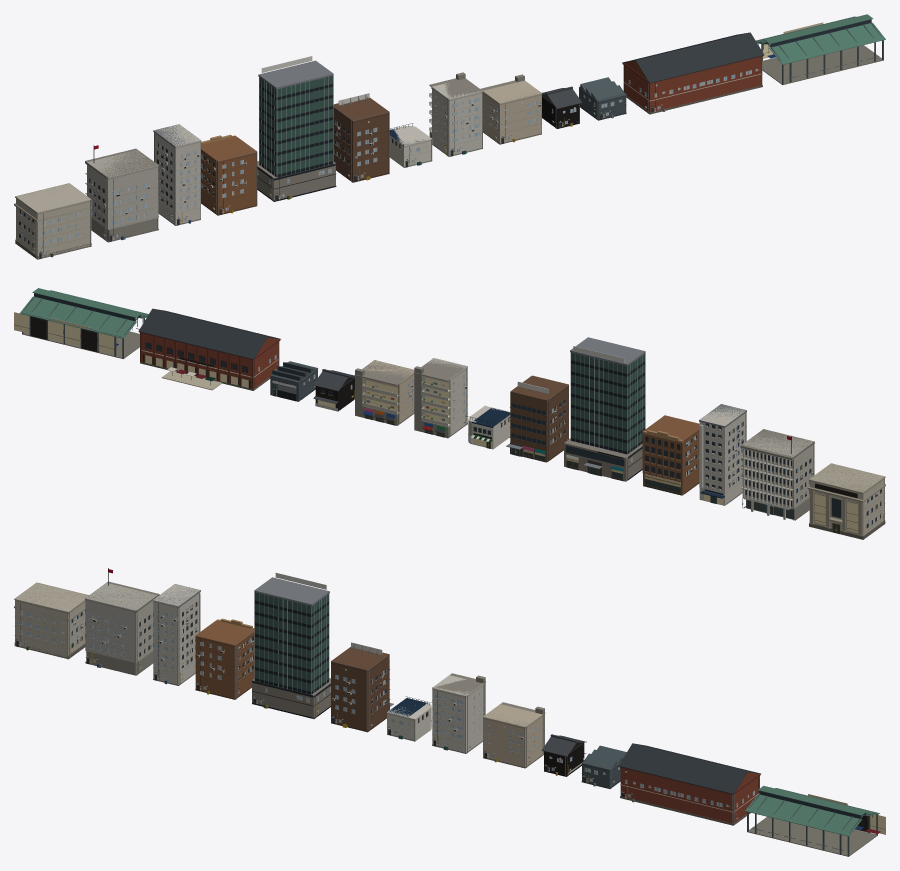
File: urafront.glb
3 views of the same model, one above another, from view 1: azimuth 30°, elevation 25°; view 2: azimuth 150°, elevation 25°; view 3: azimuth 330°, elevation 25° (orthographic).
Parts seen in each view (by area): view 1: urafront_glass_body, urafront_renga_body, urafront_uwaya_body, urafront_screen_body, urafront_bank_body, urafront_tile70_body, urafront_bizhotel_body, urafront_scratch_body, urafront_mansion_body, urafront_mansion_b_body, urafront_workshop_body, urafront_cafe_body (+1 smaller); view 2: urafront_glass_body, urafront_renga_body, urafront_uwaya_body, urafront_screen_body, urafront_bank_body, urafront_tile70_body, urafront_bizhotel_body, urafront_scratch_body, urafront_mansion_body, urafront_mansion_b_body, urafront_cafe_body, urafront_workshop_body (+1 smaller); view 3: urafront_glass_body, urafront_renga_body, urafront_uwaya_body, urafront_screen_body, urafront_bank_body, urafront_tile70_body, urafront_scratch_body, urafront_bizhotel_body, urafront_mansion_body, urafront_mansion_b_body, urafront_cafe_body, urafront_kura_body (+1 smaller).
Boxes of the visible parts, box(x1,y1,x2,y2) form: urafront_glass_body: box(257, 56, 336, 201); urafront_renga_body: box(622, 32, 764, 114); urafront_uwaya_body: box(756, 14, 885, 85); urafront_screen_body: box(85, 145, 158, 242); urafront_bank_body: box(14, 183, 91, 259); urafront_tile70_body: box(333, 93, 389, 182); urafront_bizhotel_body: box(153, 124, 201, 225); urafront_scratch_body: box(201, 134, 257, 215); urafront_mansion_body: box(429, 72, 482, 156); urafront_mansion_b_body: box(480, 74, 542, 144); urafront_workshop_body: box(579, 77, 626, 120); urafront_cafe_body: box(389, 123, 432, 167); urafront_glass_body: box(564, 337, 645, 481); urafront_renga_body: box(138, 308, 281, 390); urafront_uwaya_body: box(14, 288, 148, 358); urafront_screen_body: box(740, 429, 814, 520); urafront_bank_body: box(807, 463, 885, 539); urafront_tile70_body: box(506, 375, 568, 462); urafront_bizhotel_body: box(699, 404, 746, 505); urafront_scratch_body: box(642, 415, 699, 495); urafront_mansion_body: box(414, 358, 467, 438); urafront_mansion_b_body: box(354, 360, 414, 425); urafront_cafe_body: box(467, 405, 510, 449); urafront_workshop_body: box(270, 361, 318, 401); urafront_glass_body: box(252, 572, 330, 718); urafront_renga_body: box(618, 743, 760, 825); urafront_uwaya_body: box(745, 785, 885, 856); urafront_screen_body: box(85, 568, 159, 675); urafront_bank_body: box(14, 582, 88, 659); urafront_tile70_body: box(331, 642, 393, 732); urafront_scratch_body: box(195, 618, 254, 699); urafront_bizhotel_body: box(153, 584, 200, 685); urafront_mansion_body: box(432, 673, 485, 753); urafront_mansion_b_body: box(483, 702, 545, 768); urafront_cafe_body: box(387, 696, 431, 741); urafront_kura_body: box(541, 734, 586, 776).
Size of the model in its own units: 301 by 40.4 by 24.6.
